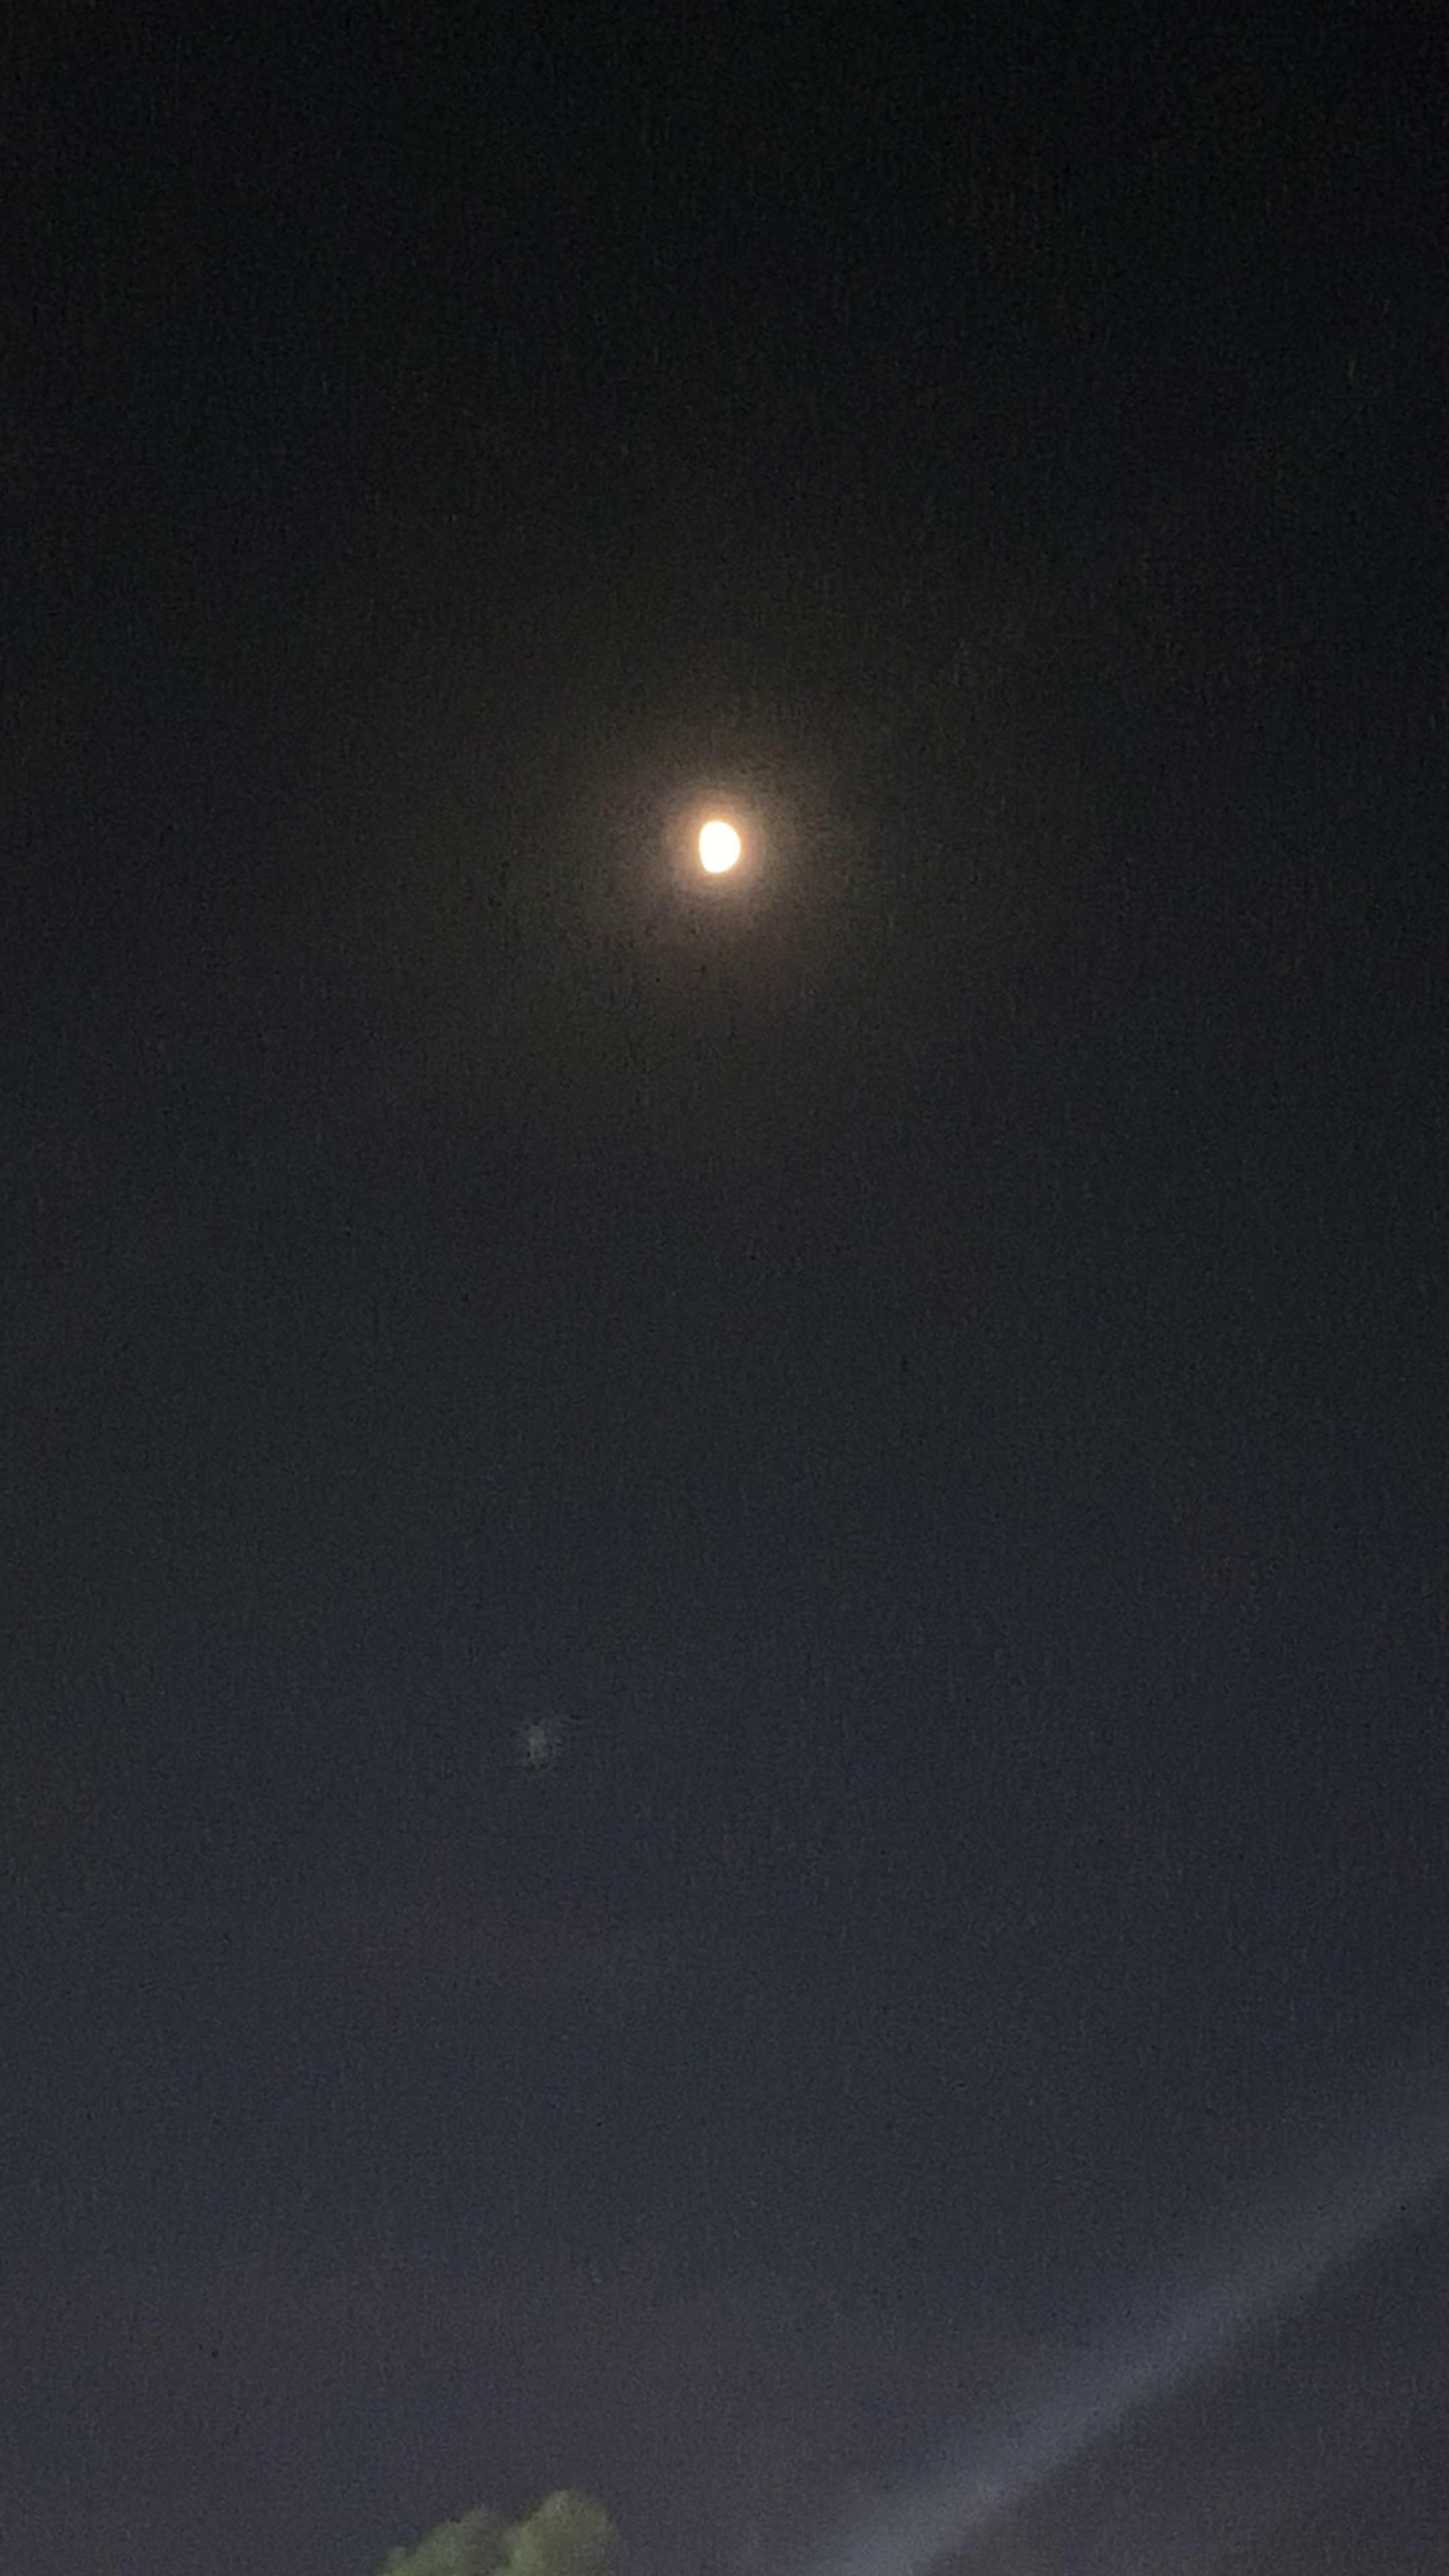moon: (678, 793, 796, 920)
